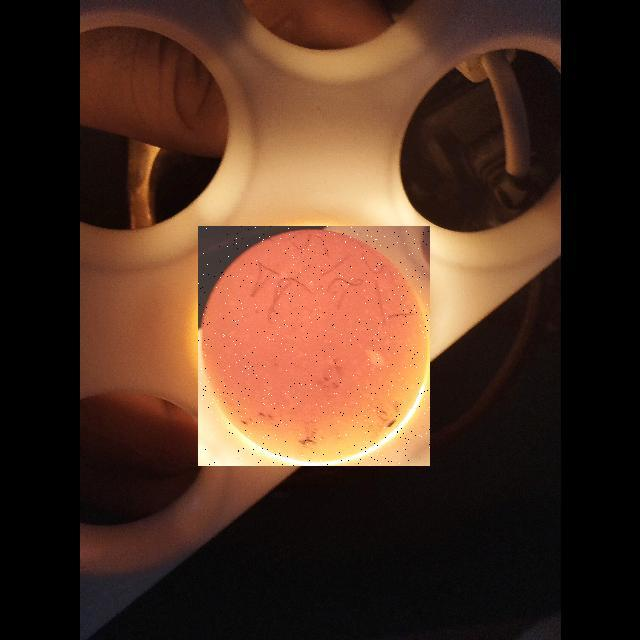Infertile: (198, 226, 430, 466)
